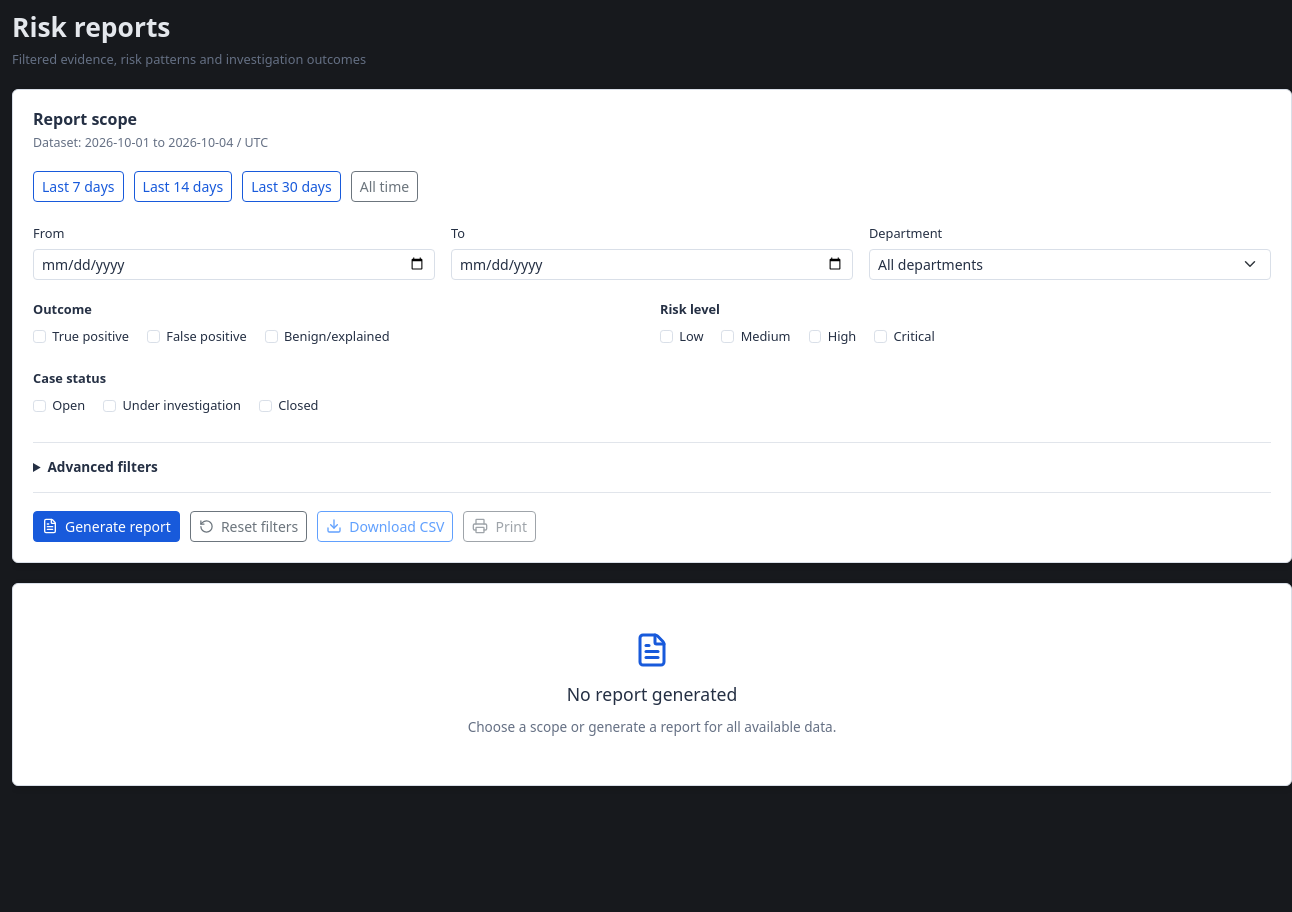
Test: rejects a reversed reporting period before requesting a report
Type "2026-09-03" into the date field labelled "From" at point(234, 264), box x1=33 y1=249 x2=435 y2=280
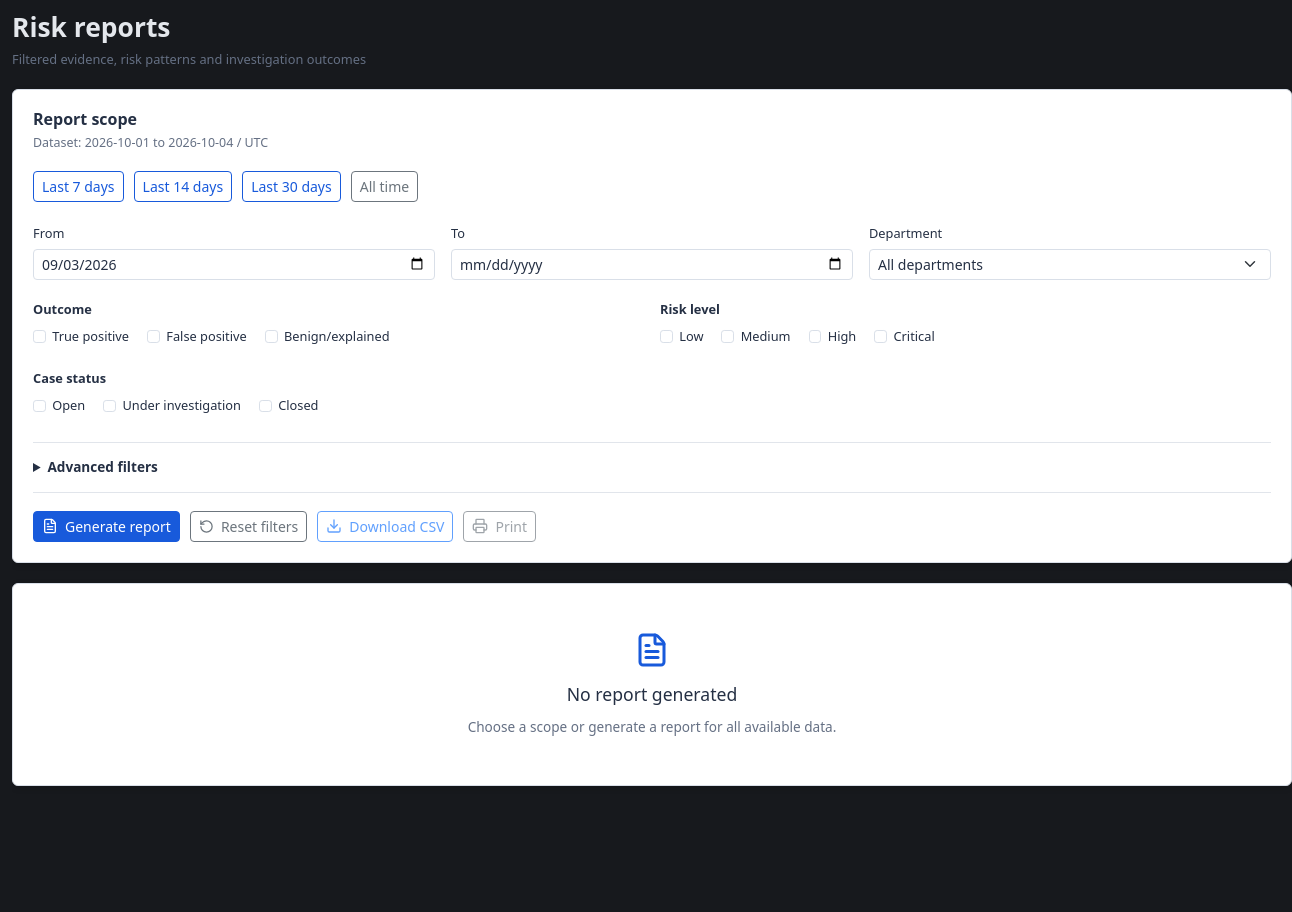
Type "2026-09-01" into the date field labelled "To" at point(652, 264), box x1=451 y1=249 x2=853 y2=280
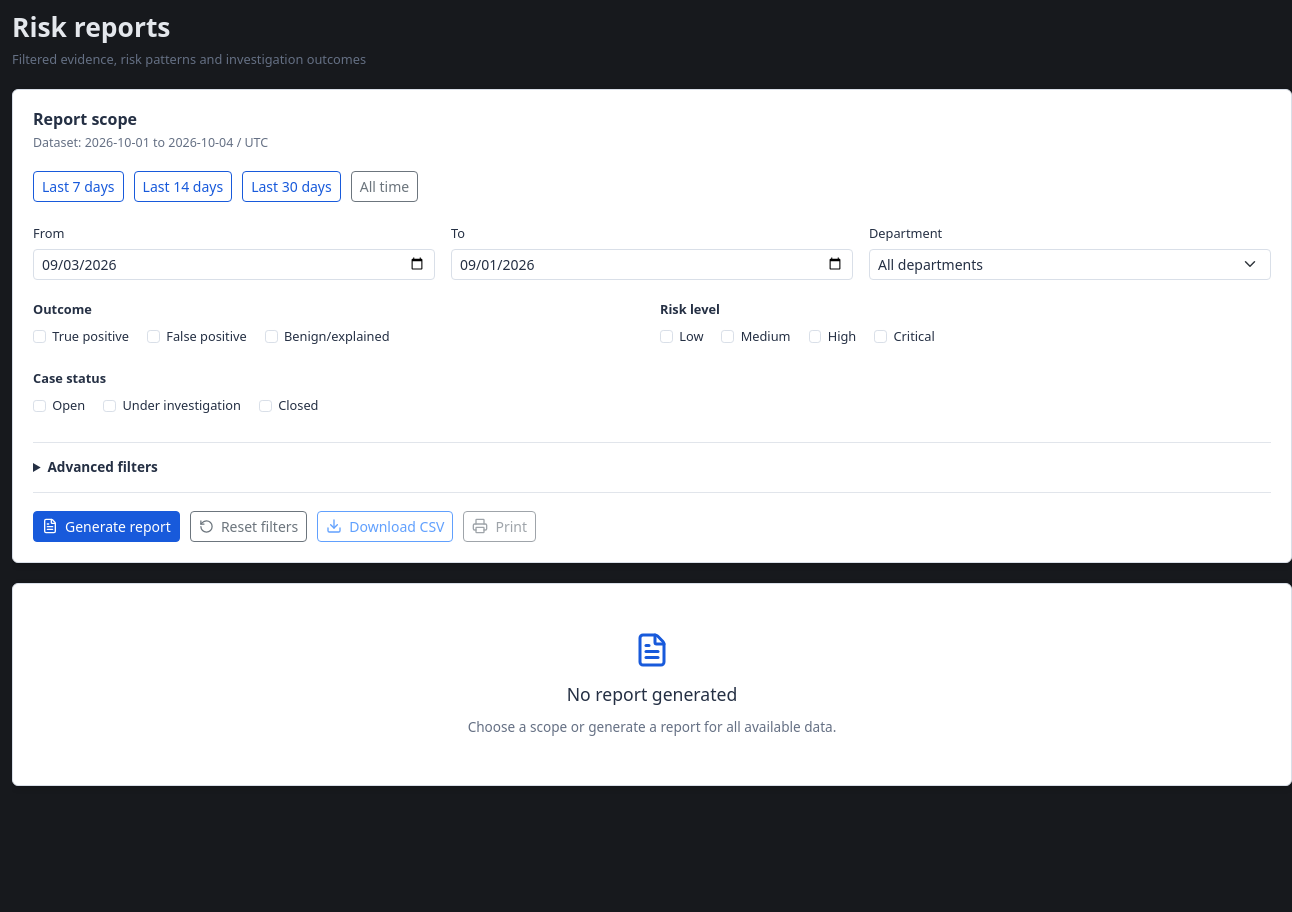
Click the button "Generate report" at point(106, 526), box x1=33 y1=511 x2=180 y2=542
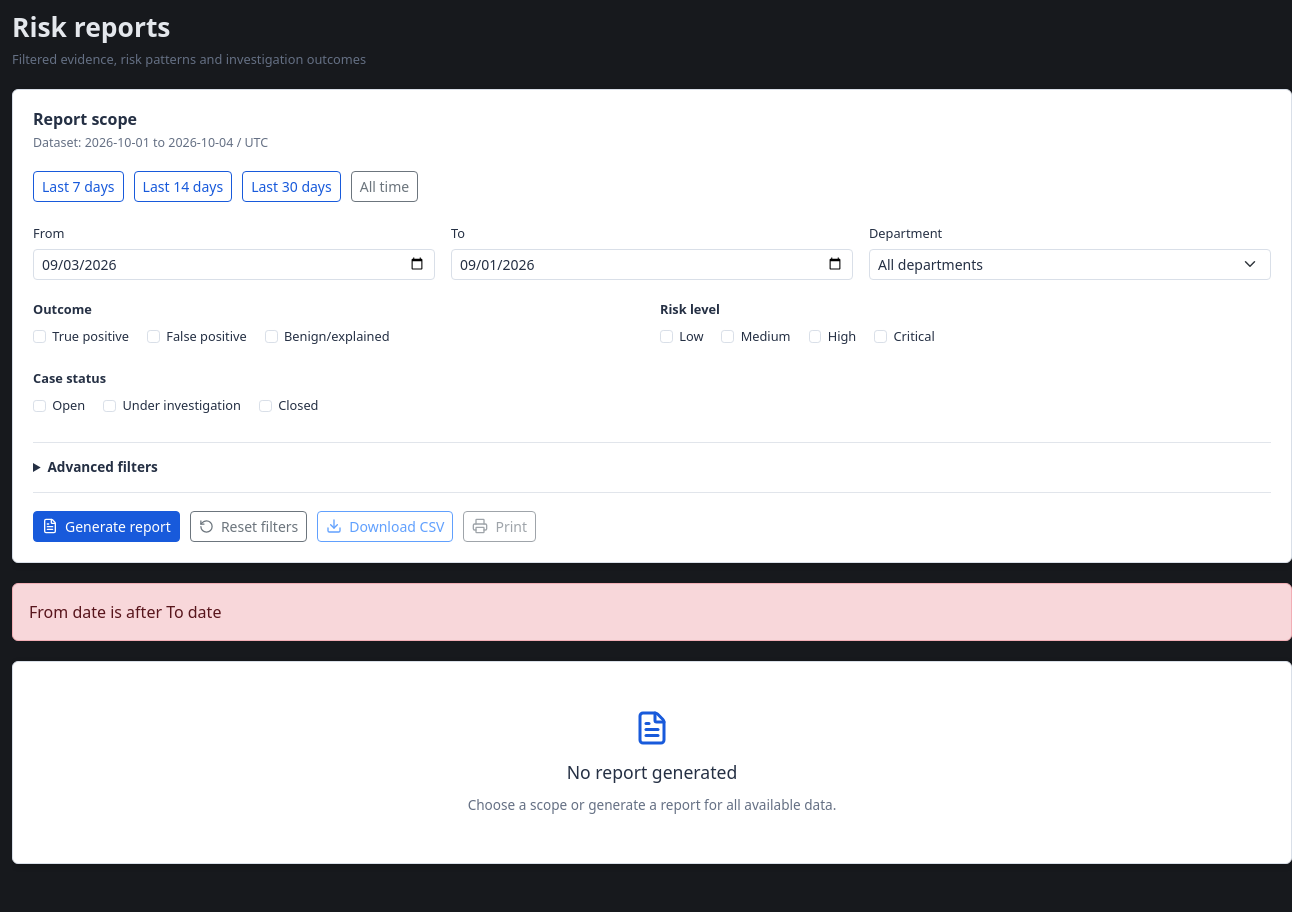
Expected: the message reads "From date is after To date", x1=29 y1=601 x2=221 y2=623
